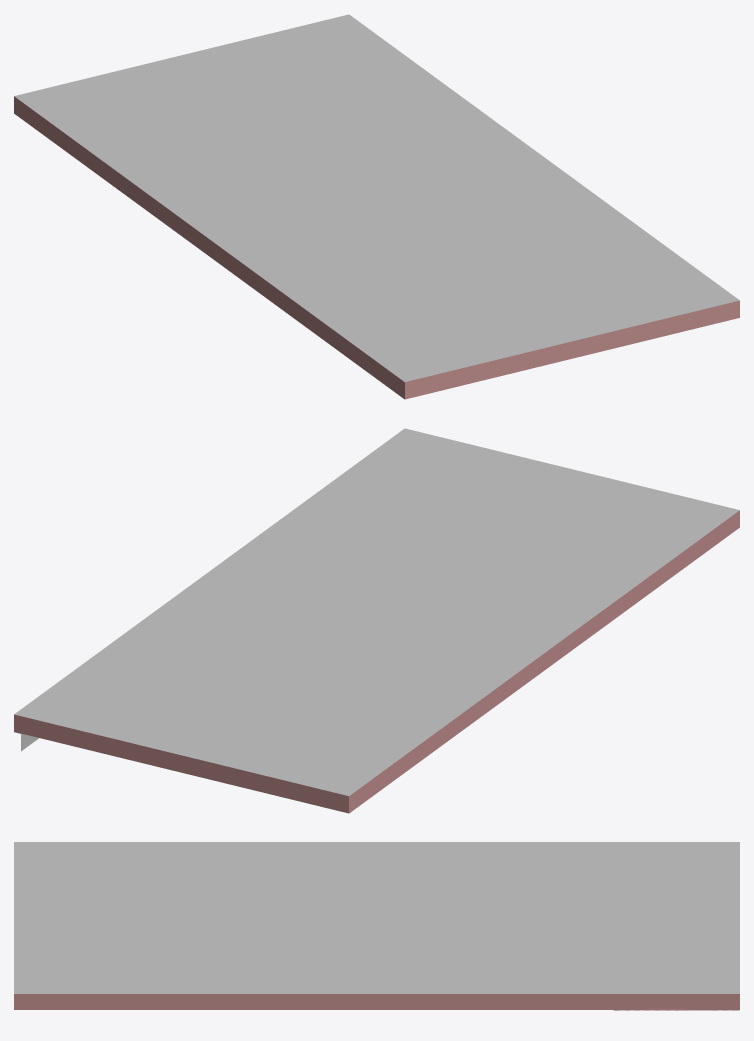
Rendered from 21a96bfe-1d2f-4913-a727-8c72a07cf272-003cfc81.glb.
The picture shows the model from 3 angles, top to bottom: view 1: azimuth 30°, elevation 25°; view 2: azimuth 150°, elevation 25°; view 3: azimuth 270°, elevation 25°; orthographic projection. The views are drawn at different scales.
Parts seen in each view (by area): view 1: sopnet4; view 2: sopnet4; view 3: sopnet4.
Part boxes in pixels (x1,y1,x2,y2): sopnet4: [14, 14, 739, 399]; sopnet4: [14, 428, 739, 813]; sopnet4: [14, 842, 739, 1010].
Size of the model in its own units: 3.66 by 0.37 by 7.39.
